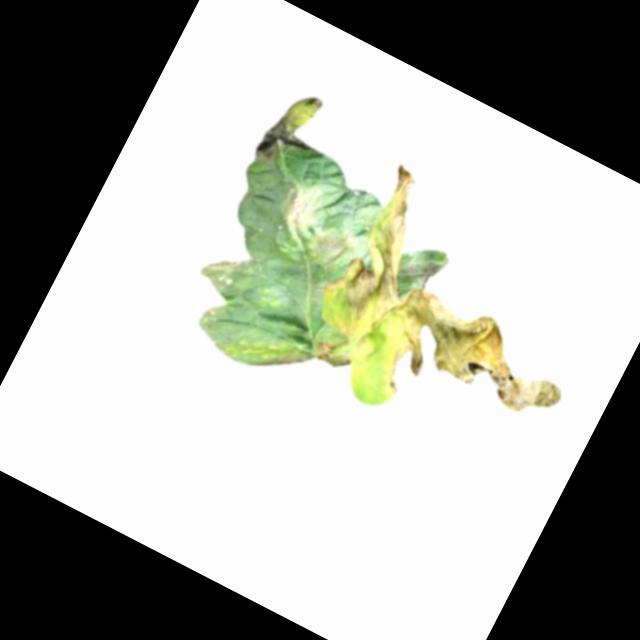Late_blight: (307, 155, 625, 441), (248, 78, 337, 179), (261, 169, 331, 246), (192, 238, 254, 300), (303, 218, 361, 277), (310, 335, 355, 373), (195, 296, 228, 335)
